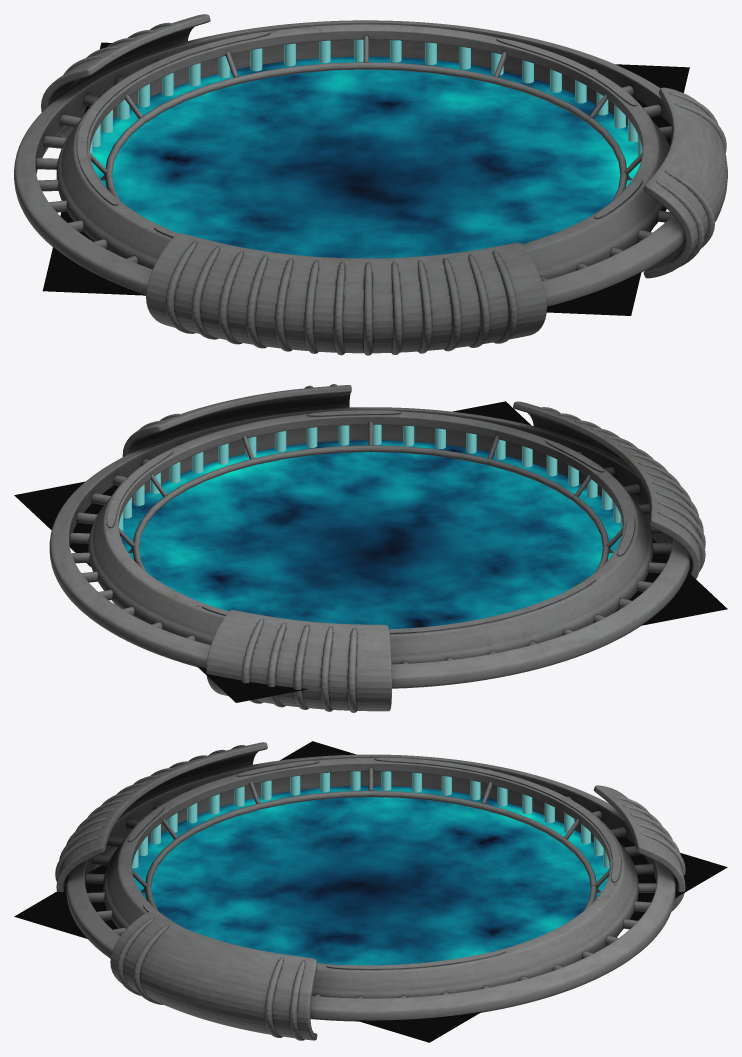
Rendered from JumpGate.obj.
The picture shows the model from 3 angles, top to bottom: view 1: azimuth 30°, elevation 25°; view 2: azimuth 150°, elevation 25°; view 3: azimuth 270°, elevation 25°; orthographic projection. The views are drawn at different scales.
Visible parts, largest first — view 1: outer_portal_Cylinder.001, portal_mist_Plane.001, inner_portal_Torus; view 2: outer_portal_Cylinder.001, portal_mist_Plane.001, inner_portal_Torus; view 3: outer_portal_Cylinder.001, portal_mist_Plane.001, inner_portal_Torus.
Boxes of the visible parts, x1,y1,x2,y2 form: outer_portal_Cylinder.001: [14, 14, 727, 355]; portal_mist_Plane.001: [42, 42, 689, 315]; inner_portal_Torus: [36, 35, 672, 280]; outer_portal_Cylinder.001: [49, 384, 705, 712]; portal_mist_Plane.001: [14, 401, 727, 702]; inner_portal_Torus: [69, 421, 672, 663]; outer_portal_Cylinder.001: [55, 742, 685, 1040]; portal_mist_Plane.001: [14, 741, 727, 1042]; inner_portal_Torus: [85, 767, 656, 998].
Size of the model in its own units: 8.51 by 1.06 by 8.51.
3 materials, 3 textured.
